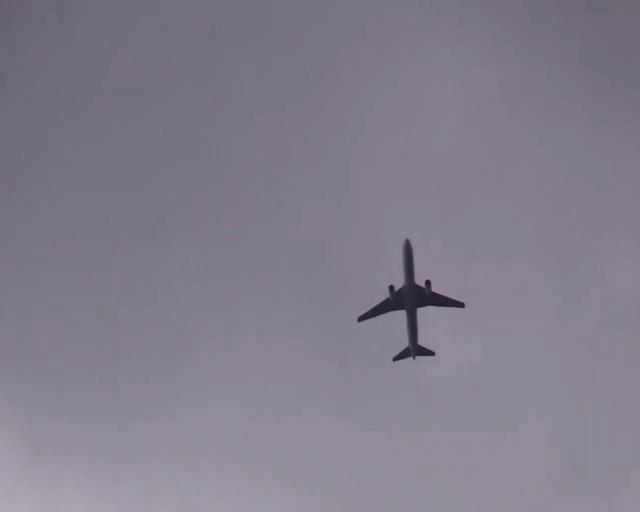AIRPLANE: (358, 236, 466, 362)
